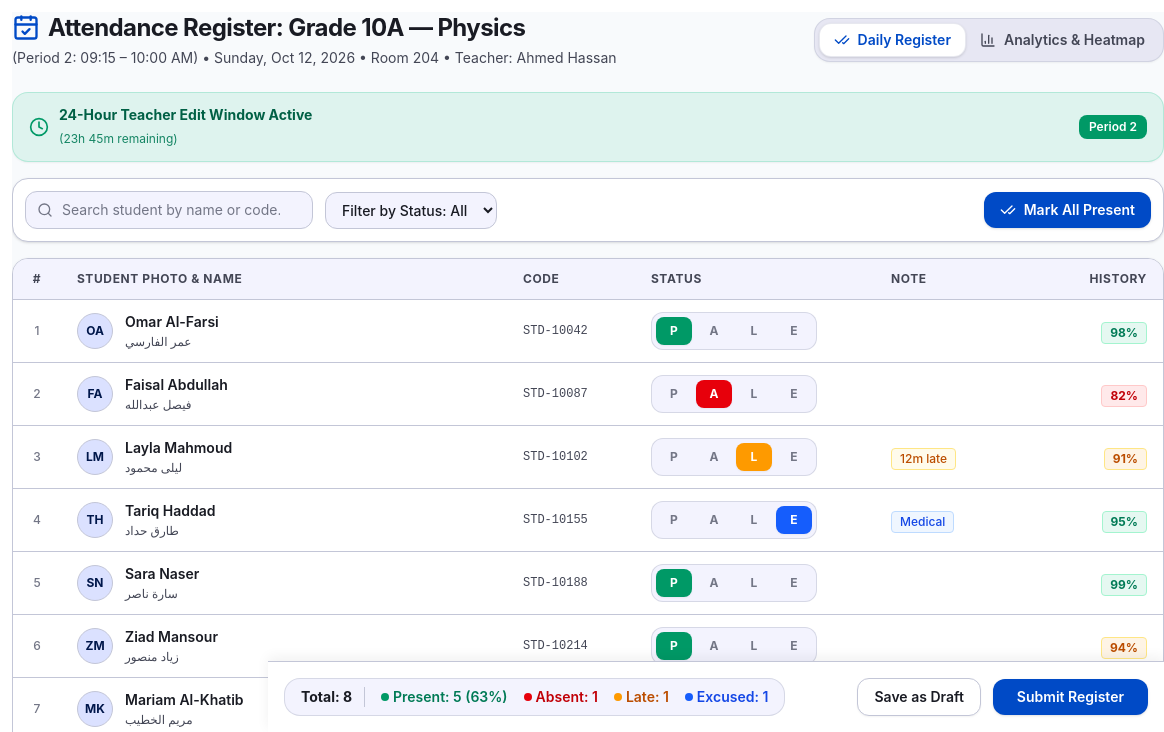
Test: AttendancePage (Attendance Register & Analytics Heatmap Stitch Clone) › allows changing an individual student status using segmented buttons
Click the button titled "Absent" in the row of "OA" at {"x": 714, "y": 331}, box [696,317,732,345]
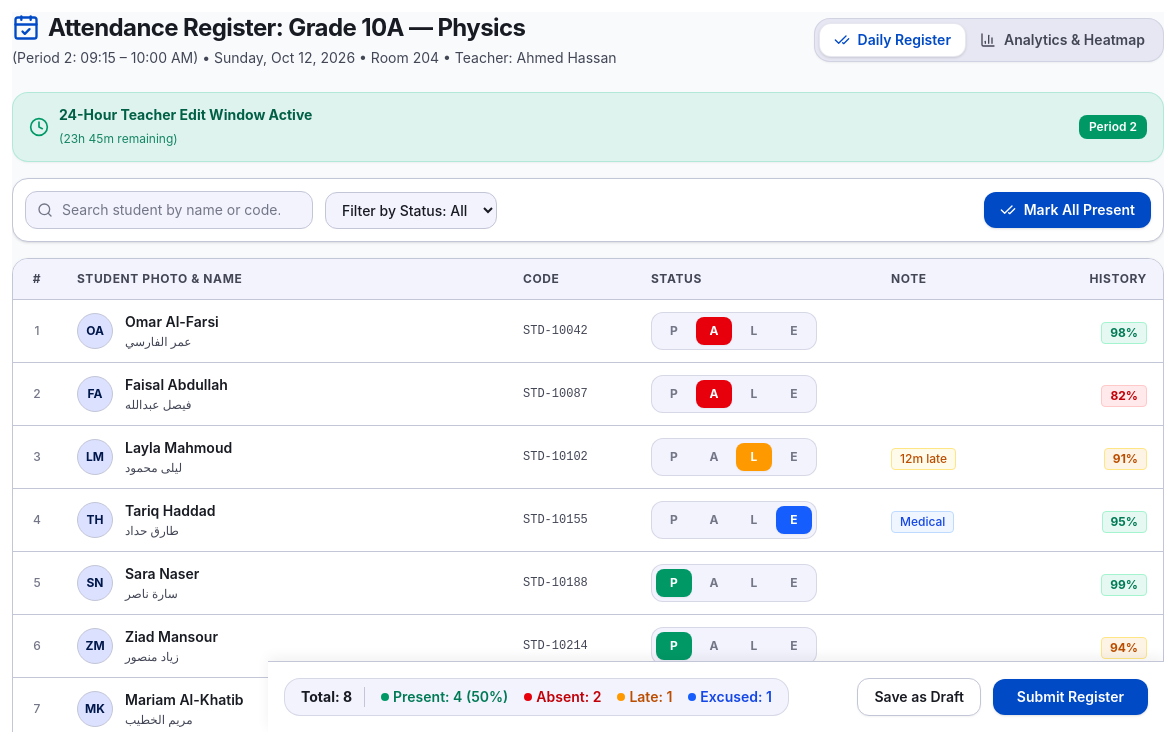
Expected: the text "Absent: 2" is shown, [524,687,601,707]
